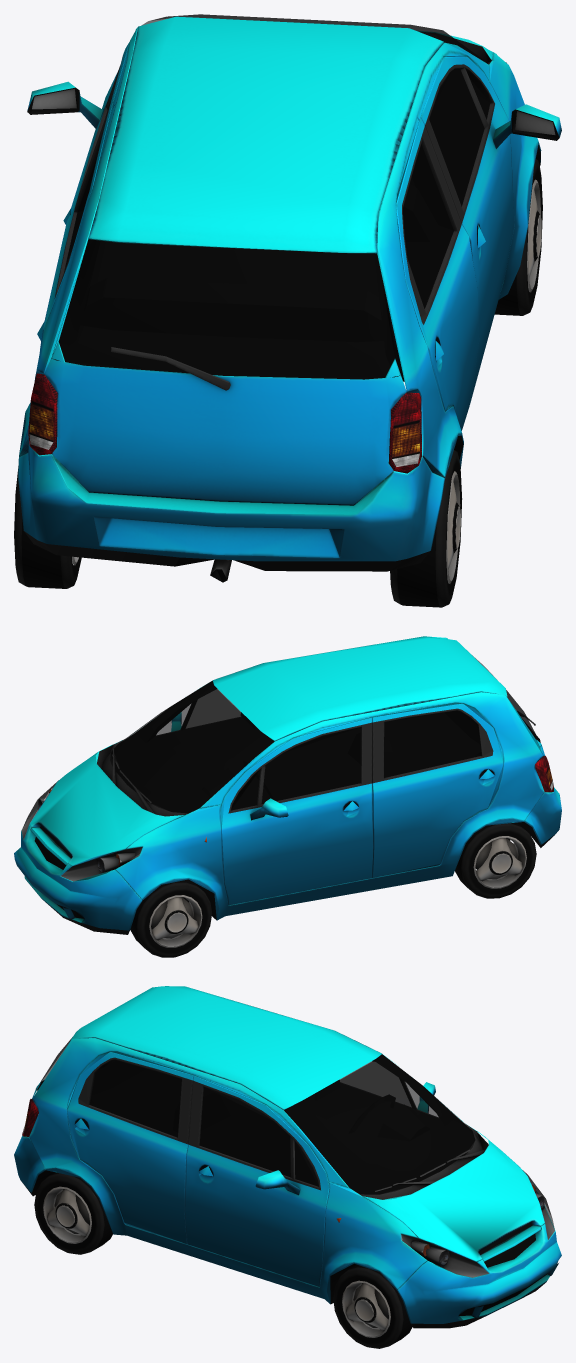
Rendered from generico-compacto.glb.
3 views of the same model, one above another, from view 1: azimuth 30°, elevation 25°; view 2: azimuth 150°, elevation 25°; view 3: azimuth 270°, elevation 25° (orthographic). The views are drawn at different scales.
Parts seen in each view (by area): view 1: Compact Body, Wheel_C002, Wheel_C001, Wheel_C003; view 2: Compact Body, Wheel_C, Wheel_C001; view 3: Compact Body, Wheel_C003, Wheel_C002.
Boxes of the visible parts, x1=… form: Compact Body: x1=18, y1=14, x2=561, y2=582; Wheel_C002: x1=390, y1=450, x2=462, y2=607; Wheel_C001: x1=14, y1=466, x2=81, y2=588; Wheel_C003: x1=494, y1=159, x2=542, y2=315; Compact Body: x1=14, y1=636, x2=561, y2=934; Wheel_C: x1=130, y1=879, x2=212, y2=957; Wheel_C001: x1=455, y1=822, x2=536, y2=898; Compact Body: x1=14, y1=986, x2=561, y2=1328; Wheel_C003: x1=333, y1=1264, x2=412, y2=1348; Wheel_C002: x1=34, y1=1172, x2=112, y2=1254.
Size of the model in its own units: 2.64 by 1.31 by 3.06.
4 materials, 3 textured.
